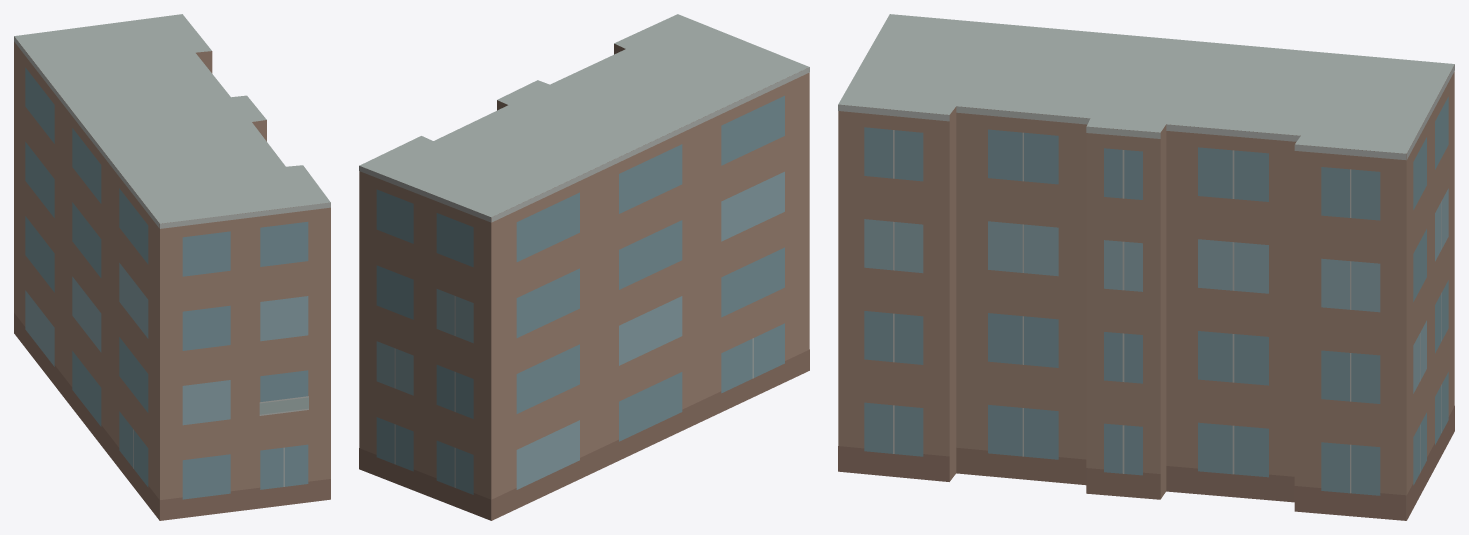
File: survey-upis-32581835.glb
3 renders of one model, left to right at view 1: azimuth 30°, elevation 25°; view 2: azimuth 150°, elevation 25°; view 3: azimuth 270°, elevation 25°, orthographic. The views are drawn at different scales.
Parts seen in each view (by area): view 1: survey-upis-32581835.tmp; view 2: survey-upis-32581835.tmp; view 3: survey-upis-32581835.tmp.
Boxes of the visible parts, <box> form: survey-upis-32581835.tmp: <box>14,14,330,520</box>; survey-upis-32581835.tmp: <box>359,14,809,520</box>; survey-upis-32581835.tmp: <box>838,14,1454,520</box>.
Size of the model in its own units: 11.36 by 13.9 by 21.17.
